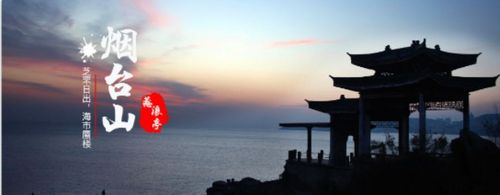sea_river: (19, 115, 297, 194)
